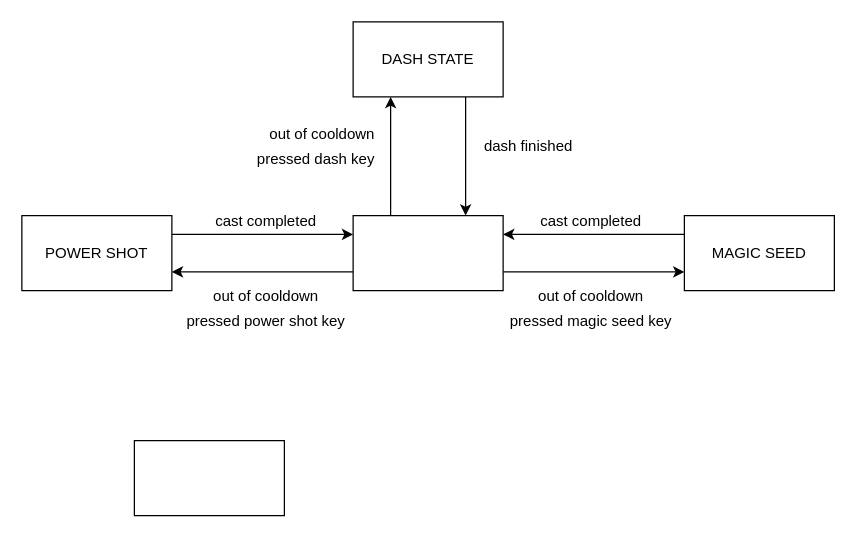
This 856x538 diagram has some shape labels left out. The shapes that lost their labels are listed below. From the top down, each one's box as (x1, y1, x2, y2) in pixels, then its label:
(352, 214, 503, 291): WALK STATE
(133, 439, 284, 516): SUMMON
